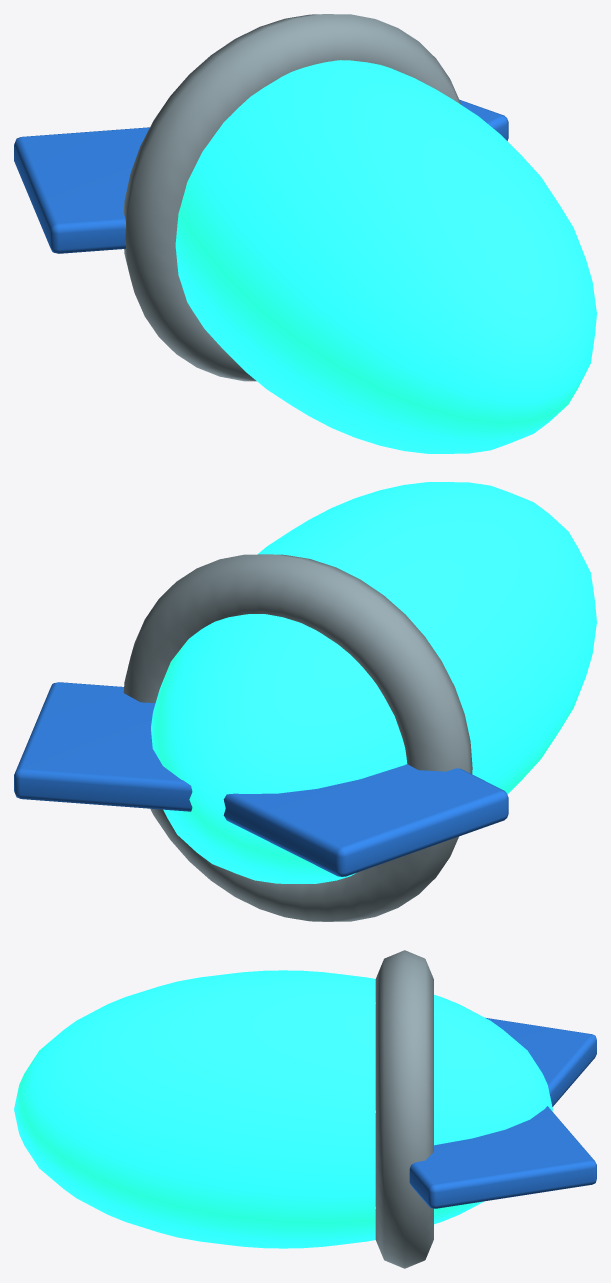
The model's file is Poseidon_Normal.fbx.
3 renders of one model, top to bottom at view 1: azimuth 30°, elevation 25°; view 2: azimuth 150°, elevation 25°; view 3: azimuth 270°, elevation 25°, orthographic. The views are drawn at different scales.
Parts seen in each view (by area): view 1: Water capsule, Pressure collar, Tail fin, Tail fin.001; view 2: Water capsule, Pressure collar, Tail fin, Tail fin.001; view 3: Water capsule, Pressure collar, Tail fin.001, Tail fin.
Part boxes in pixels (x1,y1,x2,y2): Water capsule: (175, 60, 596, 453); Pressure collar: (123, 14, 460, 381); Tail fin: (14, 127, 149, 253); Tail fin.001: (459, 99, 508, 140); Water capsule: (151, 482, 596, 883); Pressure collar: (123, 554, 472, 921); Tail fin: (223, 764, 508, 876); Tail fin.001: (14, 682, 192, 811); Water capsule: (14, 970, 552, 1248); Pressure collar: (375, 950, 433, 1268); Tail fin.001: (409, 1106, 596, 1208); Tail fin: (485, 1017, 596, 1106).
Bounding box in the file's own units: 94.4 × 71 × 130.
